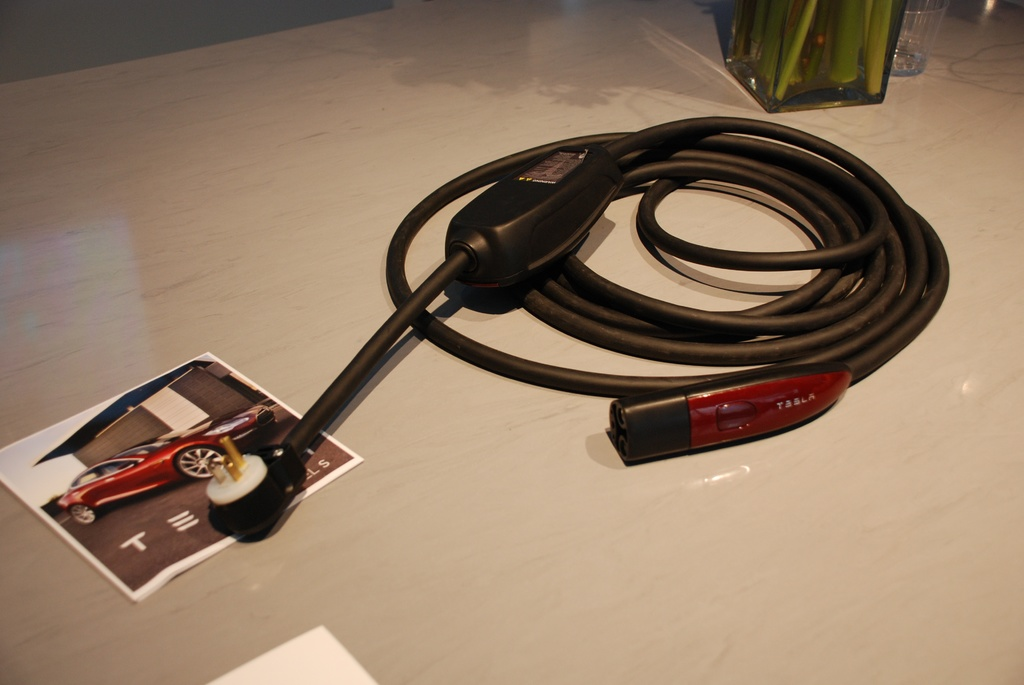cars: (51, 407, 266, 525)
